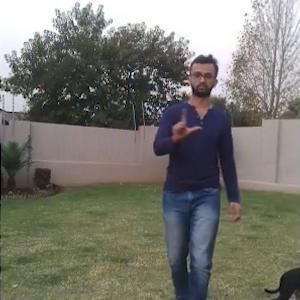land_hand: (166, 103, 204, 146)
